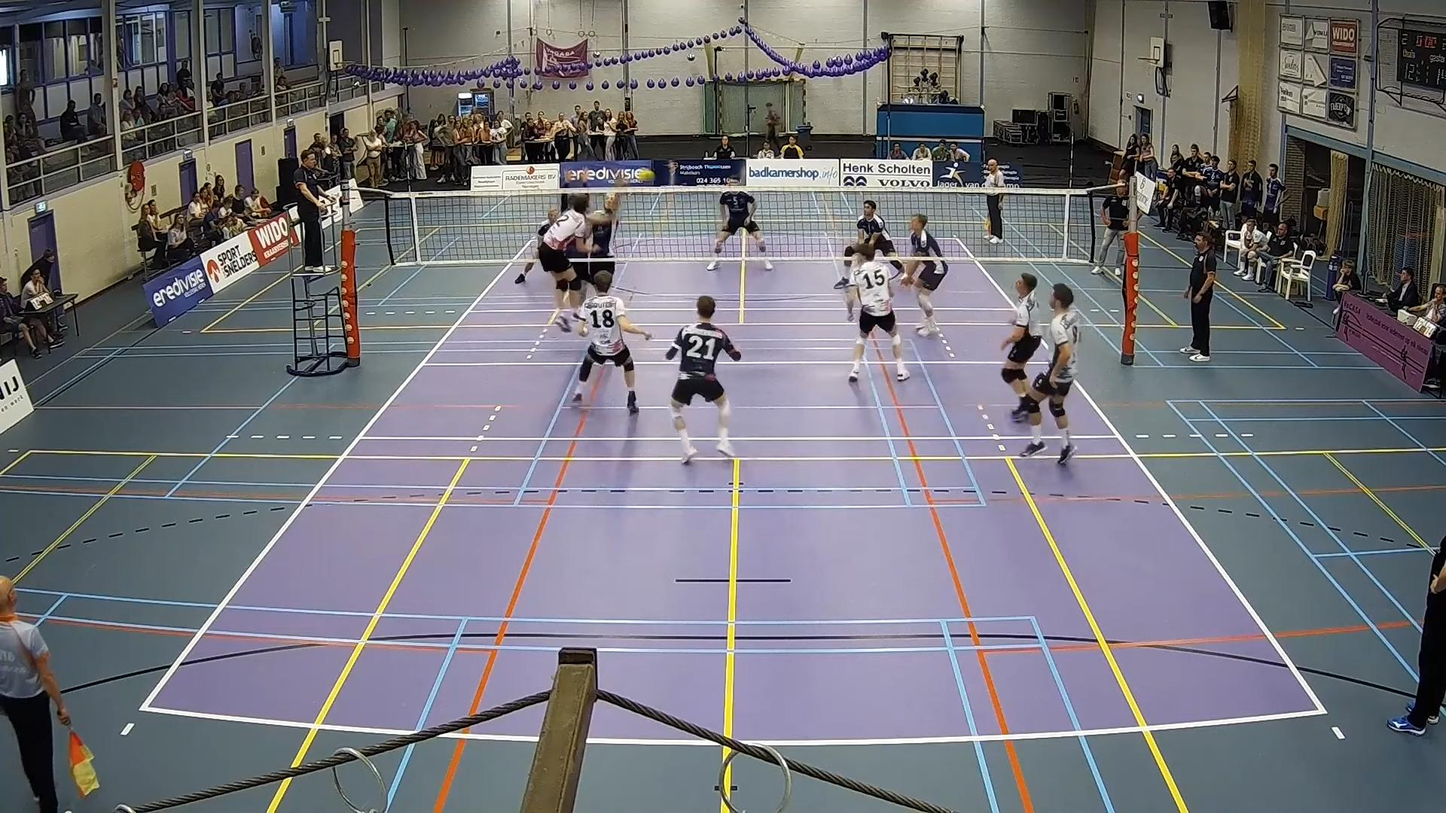attacco: (532, 186, 616, 337)
